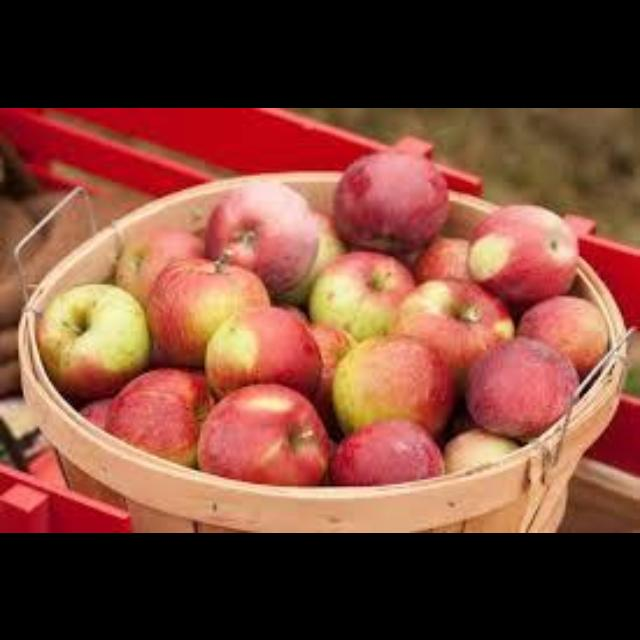apple: (144, 258, 268, 365), (391, 277, 512, 386), (198, 384, 328, 484), (205, 179, 319, 293), (37, 282, 149, 398), (333, 335, 454, 433), (333, 151, 447, 251), (465, 337, 577, 437), (468, 205, 577, 305), (205, 305, 321, 396), (105, 368, 212, 465), (307, 251, 414, 337), (330, 419, 442, 484), (517, 296, 605, 375), (116, 228, 202, 302), (277, 212, 344, 305), (310, 323, 354, 437), (445, 428, 517, 470), (412, 235, 468, 279), (79, 398, 109, 426)
